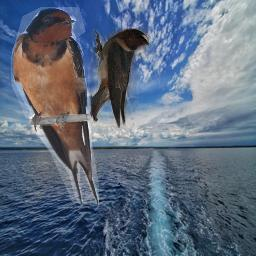Swallow: (11, 7, 99, 206), (88, 28, 149, 128)
